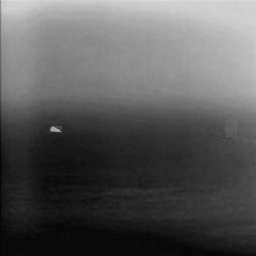Target: (48, 125, 62, 133)
